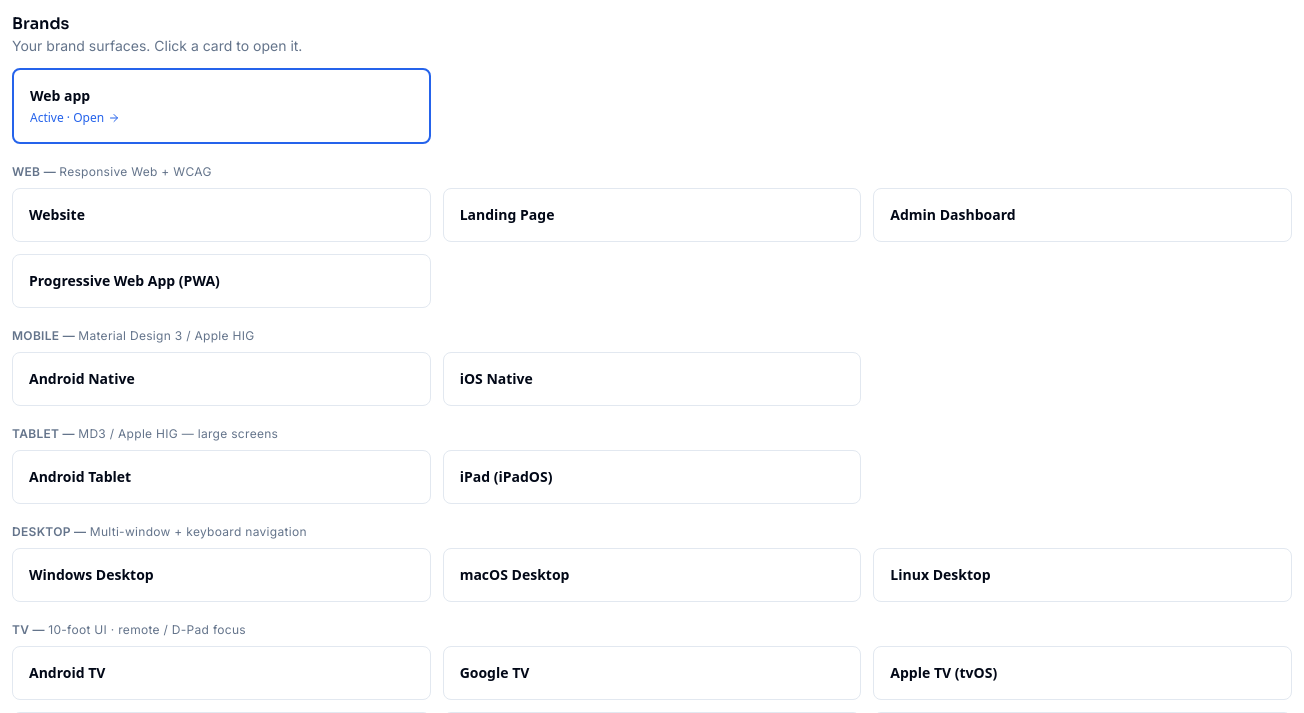
Test: WebsiteStage — Brands cards grid (KDL-558) › opens the Web app flow (Typography step) on click, and Back returns to the grid
The width and height of the screenshot is (1304, 713).
Click the text "Web app". click: (60, 96)
box: [30,86,90,105]
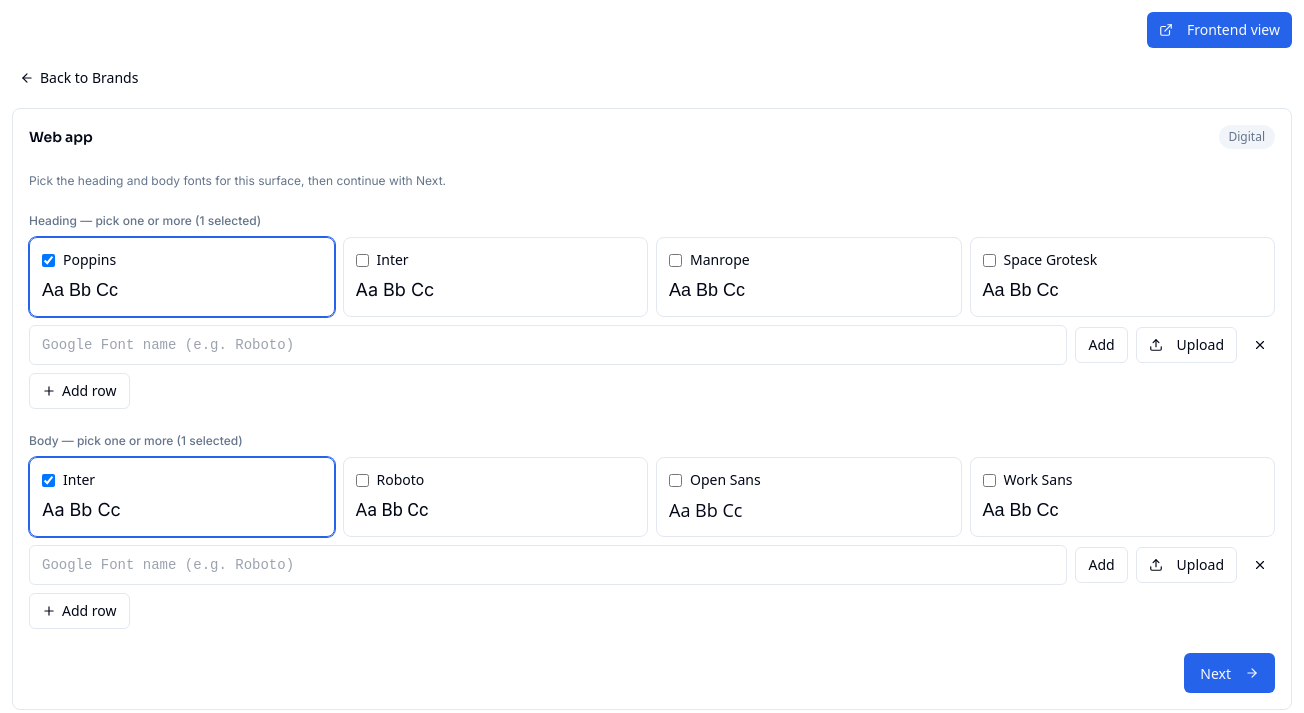
Result: the text "Pick the heading and body fonts" is shown at [29,173,446,188]
Click the button "Back to Brands". click: (79, 78)
box: [12,60,146,96]
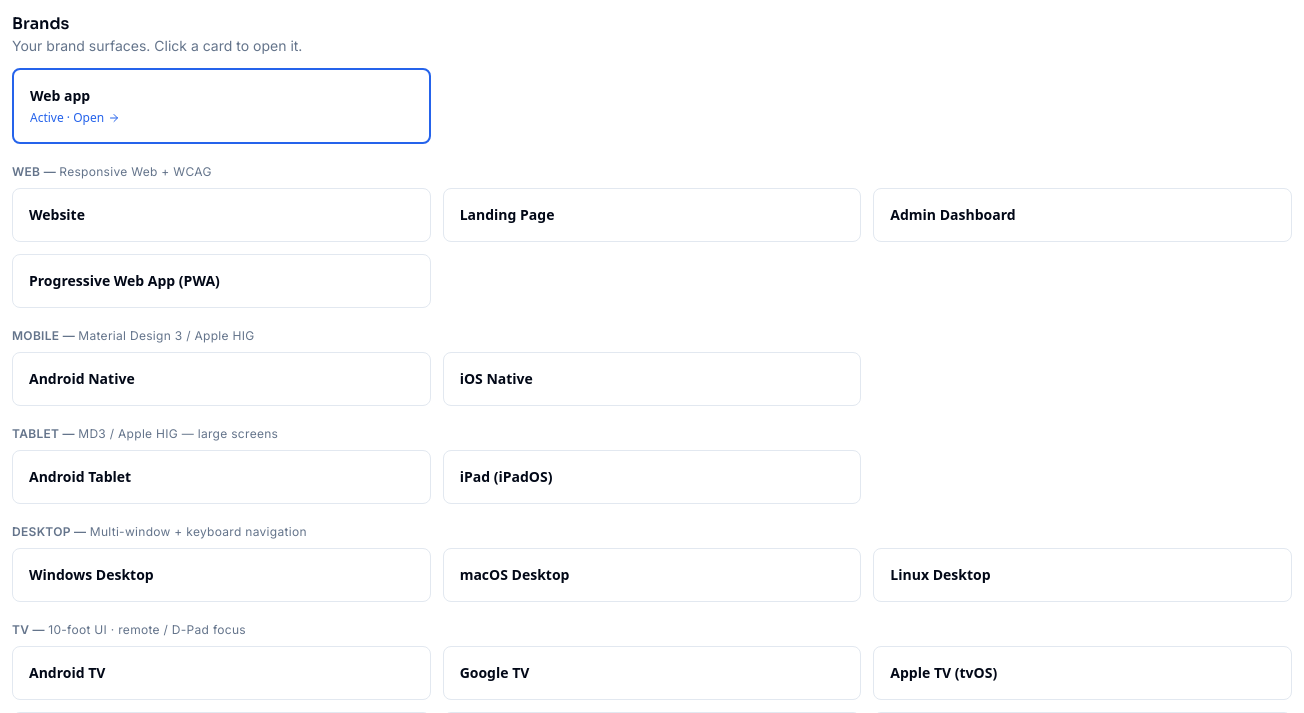
Expected: the heading "Brands" is shown, [12,13,69,34]
Result: the text "Web app" is shown at [30,86,90,105]
